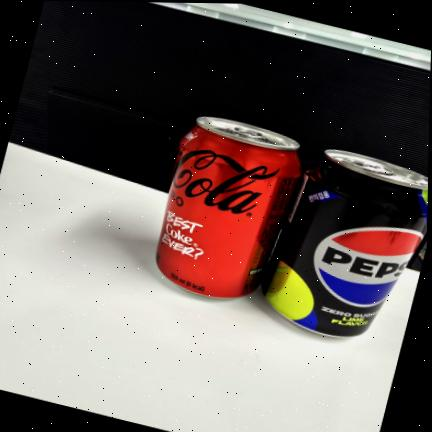can_coke_zero: (145, 117, 307, 301)
can_pepsi_zero: (261, 148, 428, 343)
